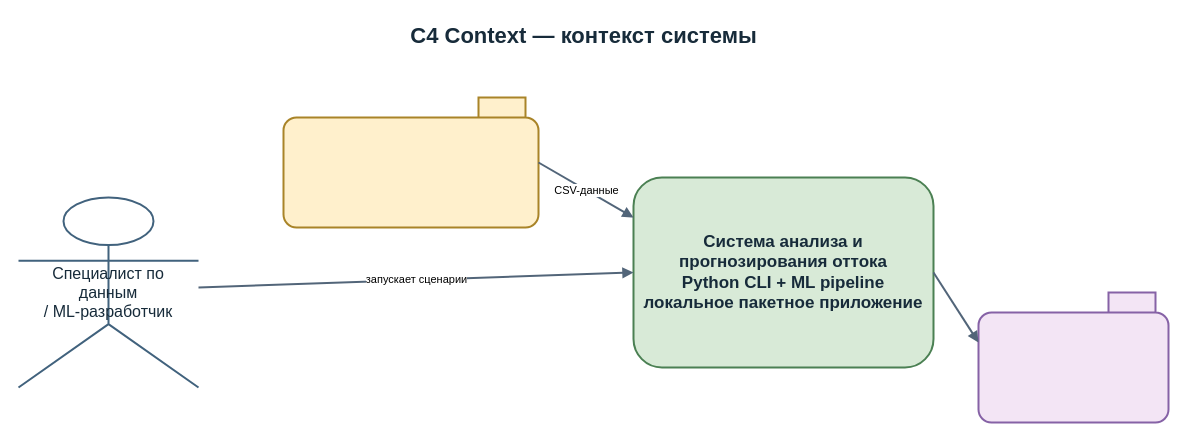
Image size: 1186x440. Some labels were removed from this diagram. The centre of each missing label's shape, as x and y in pixels:
Внешний источник данных Telco Customer Churn исходный и incoming CSV: [410,162]
Отчёты и результаты EDA, метрики, модель и файл прогнозов: [1073,357]
